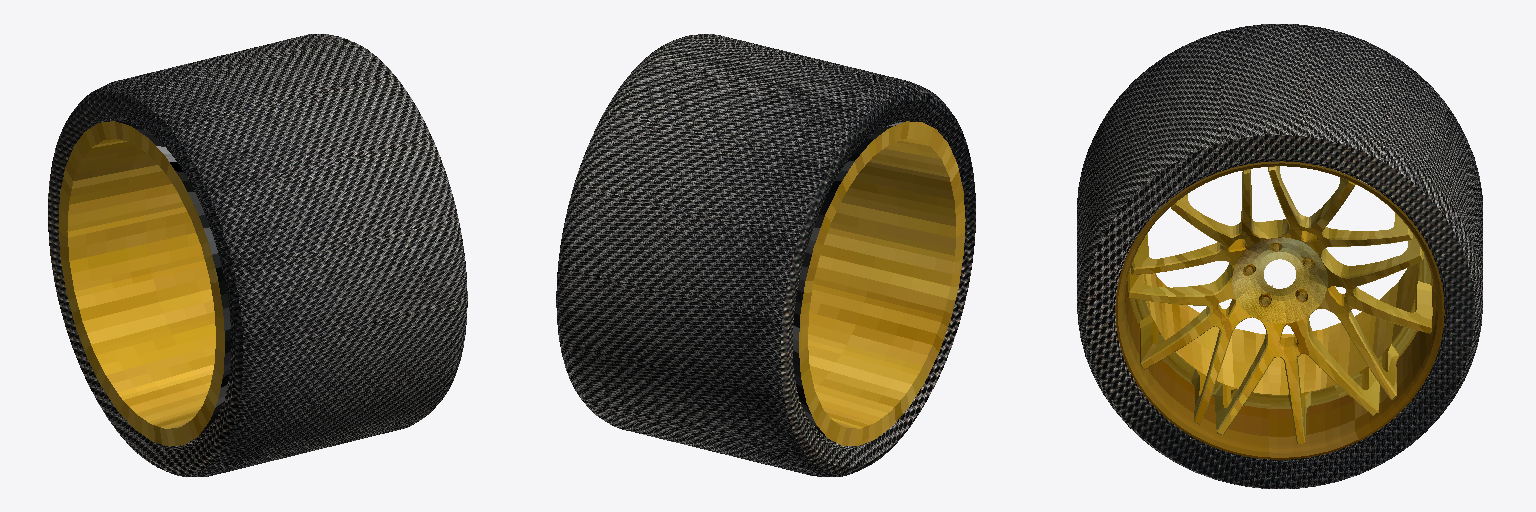
The picture shows the model from 3 angles: view 1: azimuth 30°, elevation 25°; view 2: azimuth 150°, elevation 25°; view 3: azimuth 270°, elevation 25°; orthographic projection.
Visible parts, largest first — view 1: Llanta4, Rin1; view 2: Llanta4, Rin1; view 3: Llanta4, Rin1.
Boxes of the visible parts, box(x1,y1,x2,y2) form: Llanta4: box(48, 34, 467, 476); Rin1: box(58, 121, 224, 446); Llanta4: box(556, 34, 975, 476); Rin1: box(799, 121, 965, 445); Llanta4: box(1077, 24, 1482, 488); Rin1: box(1115, 161, 1444, 459).
Bounding box in the file's own units: 3.57 × 5.5 × 5.5.
2 materials, 2 textured.